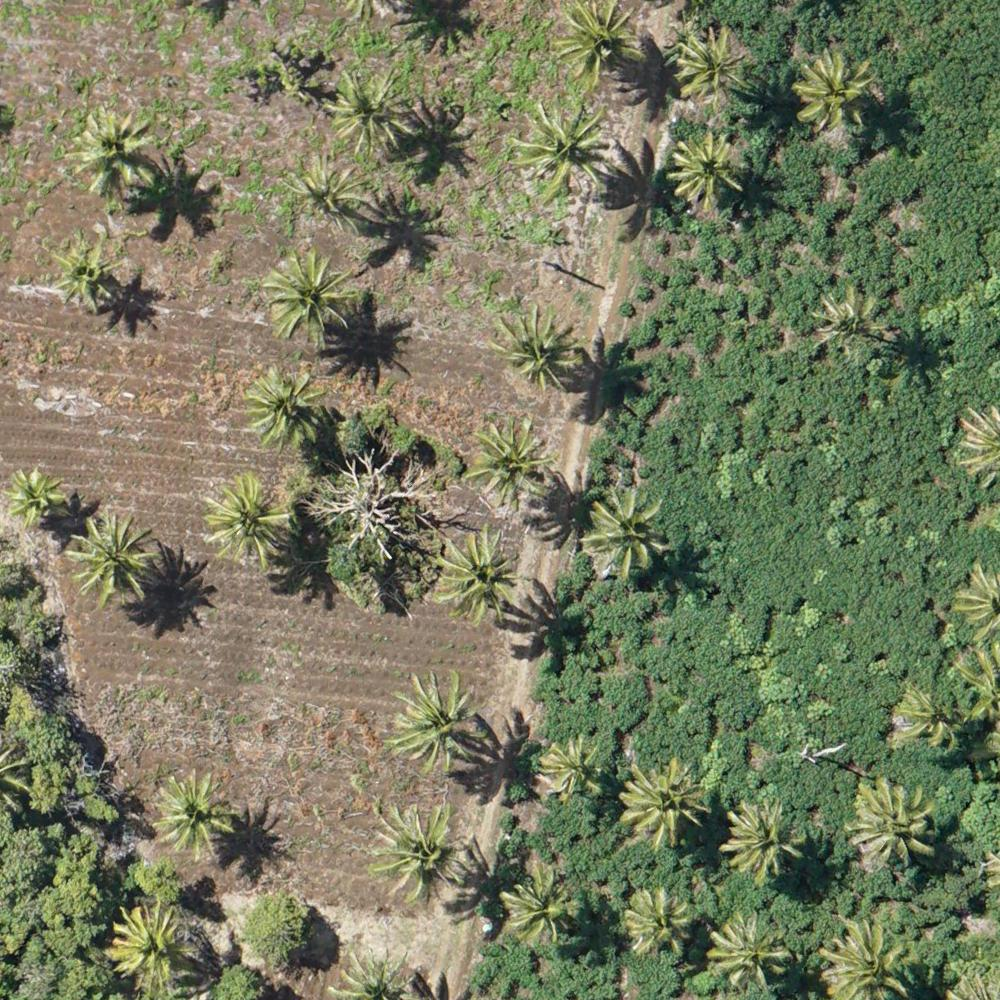Palm: (367, 802, 465, 904), (514, 101, 608, 194), (843, 783, 941, 869), (390, 677, 482, 768), (820, 917, 919, 1000), (257, 259, 353, 344), (65, 109, 155, 199), (199, 480, 290, 566), (107, 901, 192, 993), (462, 424, 552, 510), (496, 309, 583, 395), (434, 534, 517, 622), (616, 765, 705, 847), (71, 517, 157, 599), (329, 73, 413, 156), (555, 7, 642, 85), (150, 773, 228, 859), (586, 492, 672, 569), (284, 162, 368, 239), (243, 372, 324, 451), (707, 914, 795, 985), (796, 54, 875, 131), (669, 31, 747, 106), (41, 242, 125, 311), (501, 869, 576, 945), (725, 808, 801, 881), (812, 288, 888, 357), (531, 736, 603, 808), (667, 134, 742, 202), (622, 886, 690, 952), (5, 471, 61, 533)
